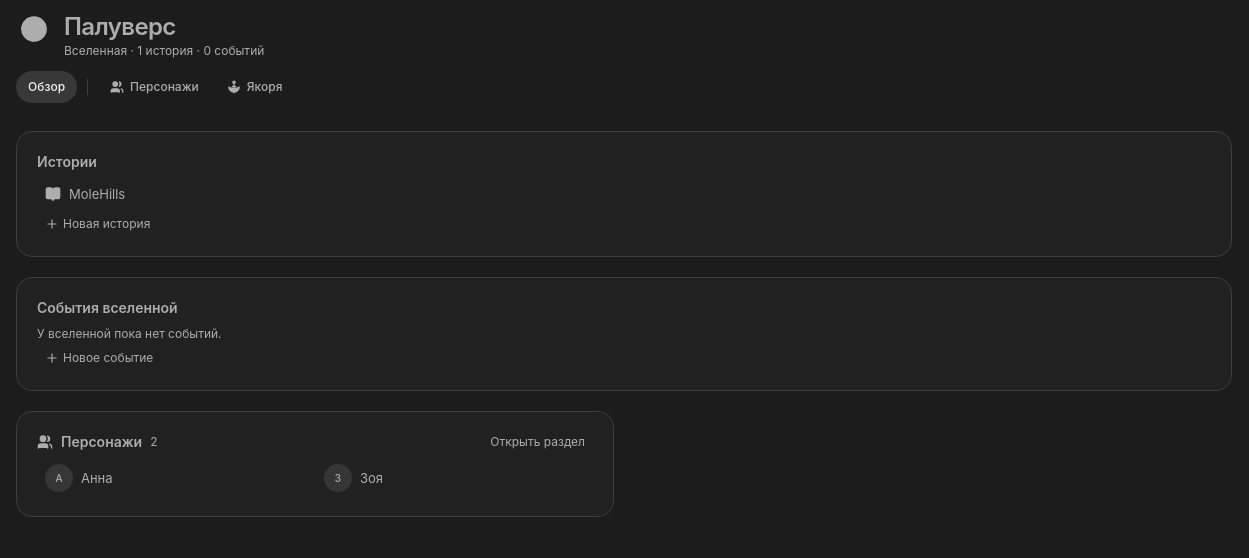
Test: the events of a universe › shows the failure of that operation and writes no anchor
Click the button "Новое событие" at [99, 358], box top-left (37, 346), bottom-right (161, 370)
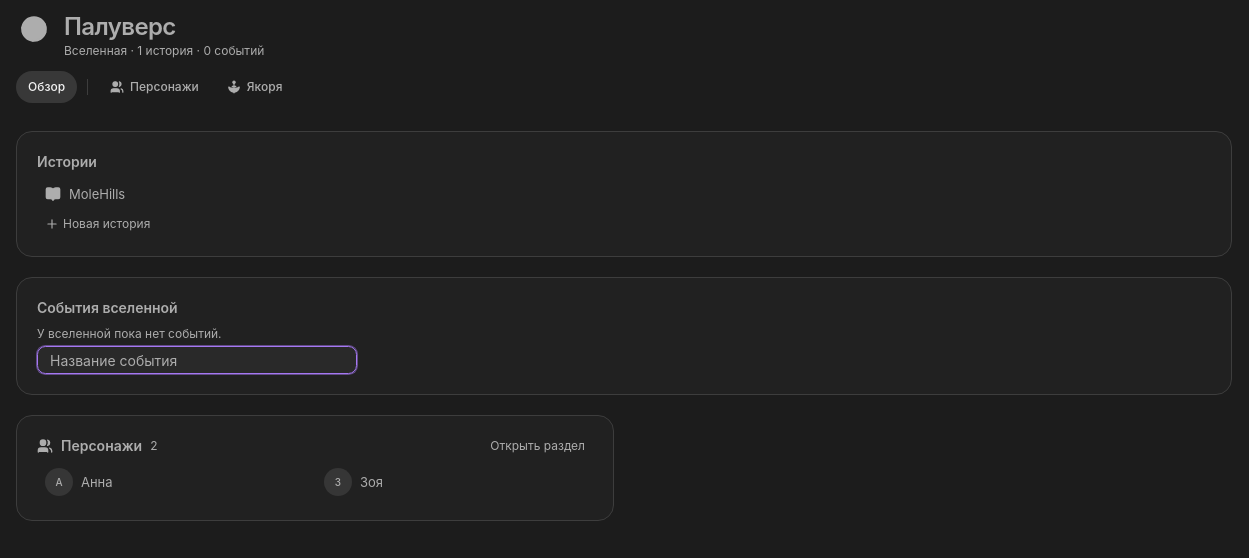
Type "Пожар" into the field labelled "Название события" at [197, 360], box top-left (37, 346), bottom-right (357, 374)
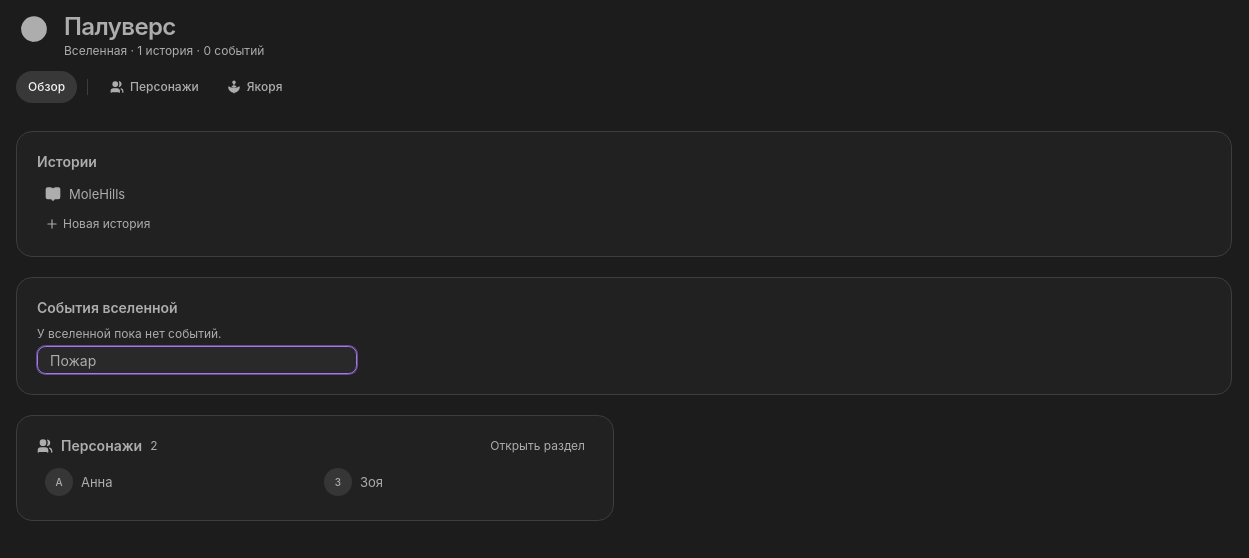
Submit the form named "Название события", box top-left (37, 346), bottom-right (357, 374)
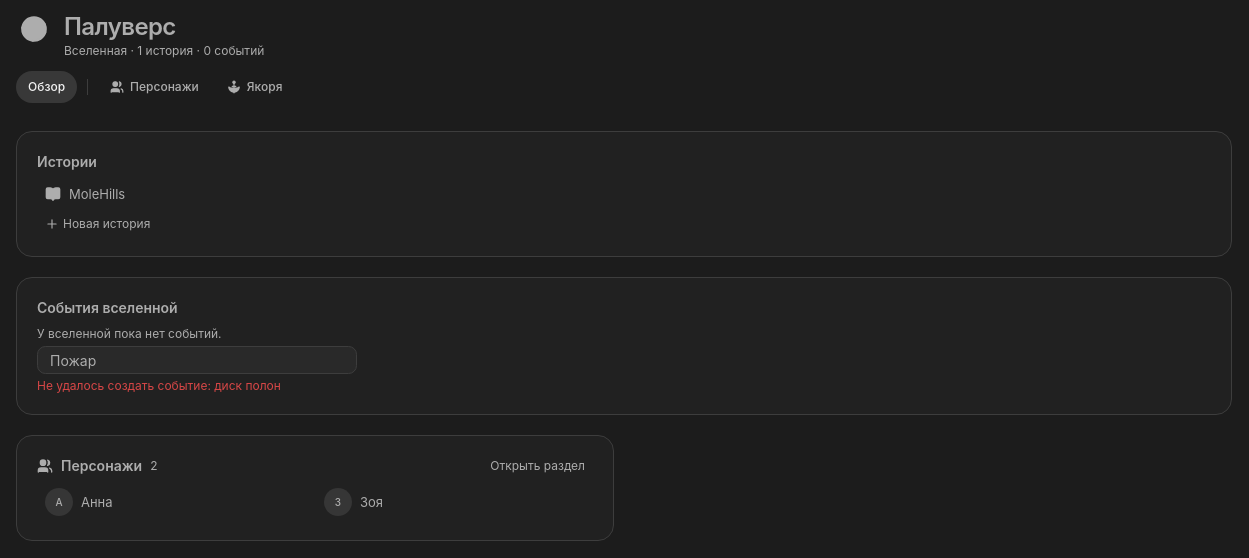
Expected: the message shows "диск полон", top-left (37, 378), bottom-right (281, 393)
